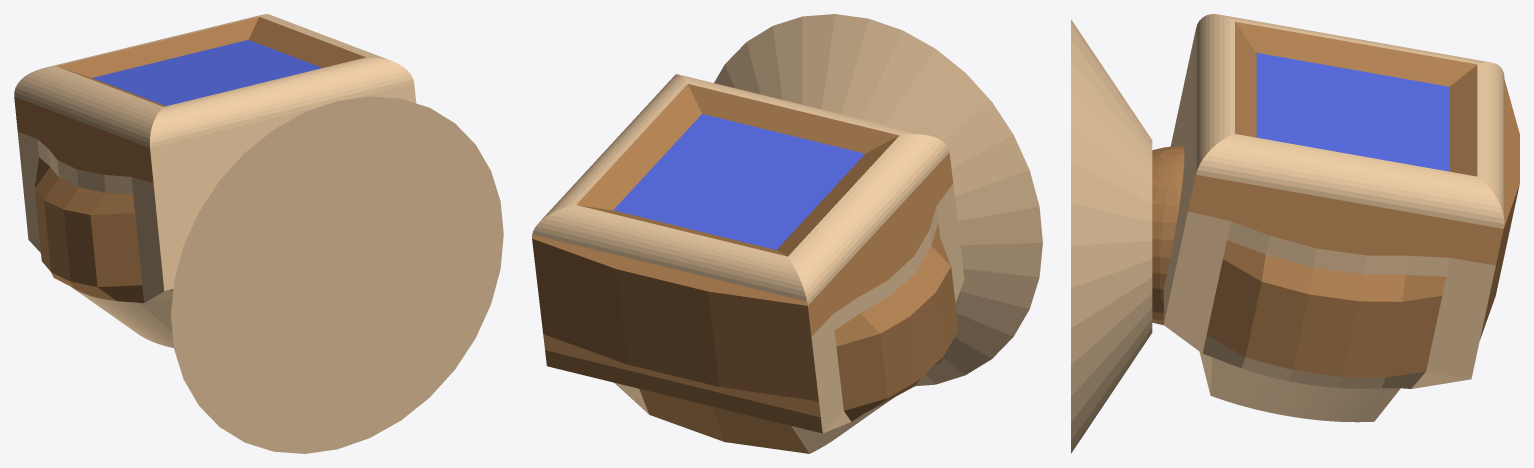
Rendered from Little Monitor.fbx.
3 views of the same model, side by side, from view 1: azimuth 30°, elevation 25°; view 2: azimuth 150°, elevation 25°; view 3: azimuth 270°, elevation 25° (orthographic). The views are drawn at different scales.
Parts seen in each view (by area): view 1: Cube.003; view 2: Cube.003; view 3: Cube.003.
Part boxes in pixels (x1,y1,x2,y2): Cube.003: [14, 14, 503, 453]; Cube.003: [532, 14, 1042, 453]; Cube.003: [1071, 14, 1519, 453].
Size of the model in its own units: 396 by 393 by 406.
